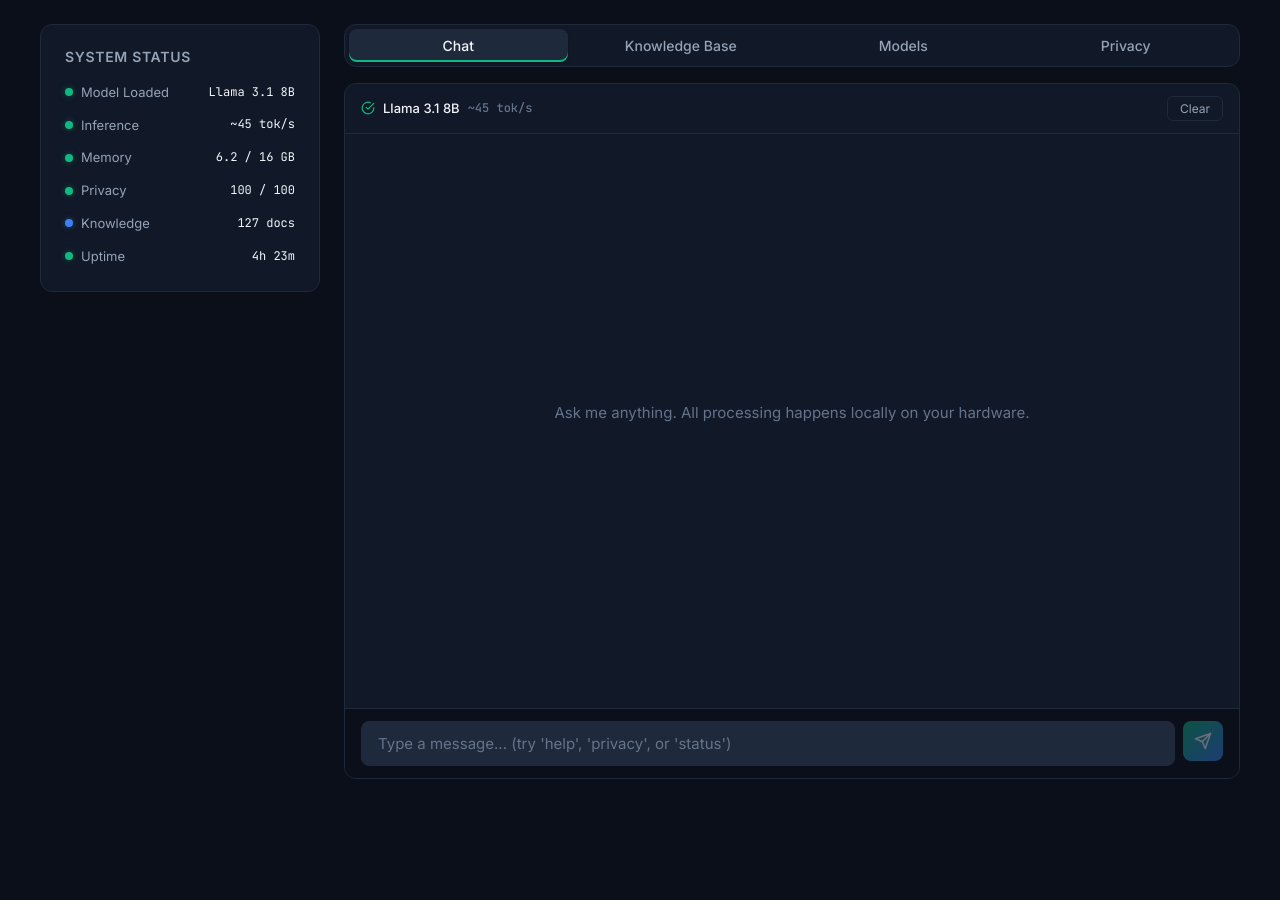
Test: DashboardPage › clears chat history
Type "test message" into the field named "Chat message input" at (768, 744), box [361, 721, 1175, 766]
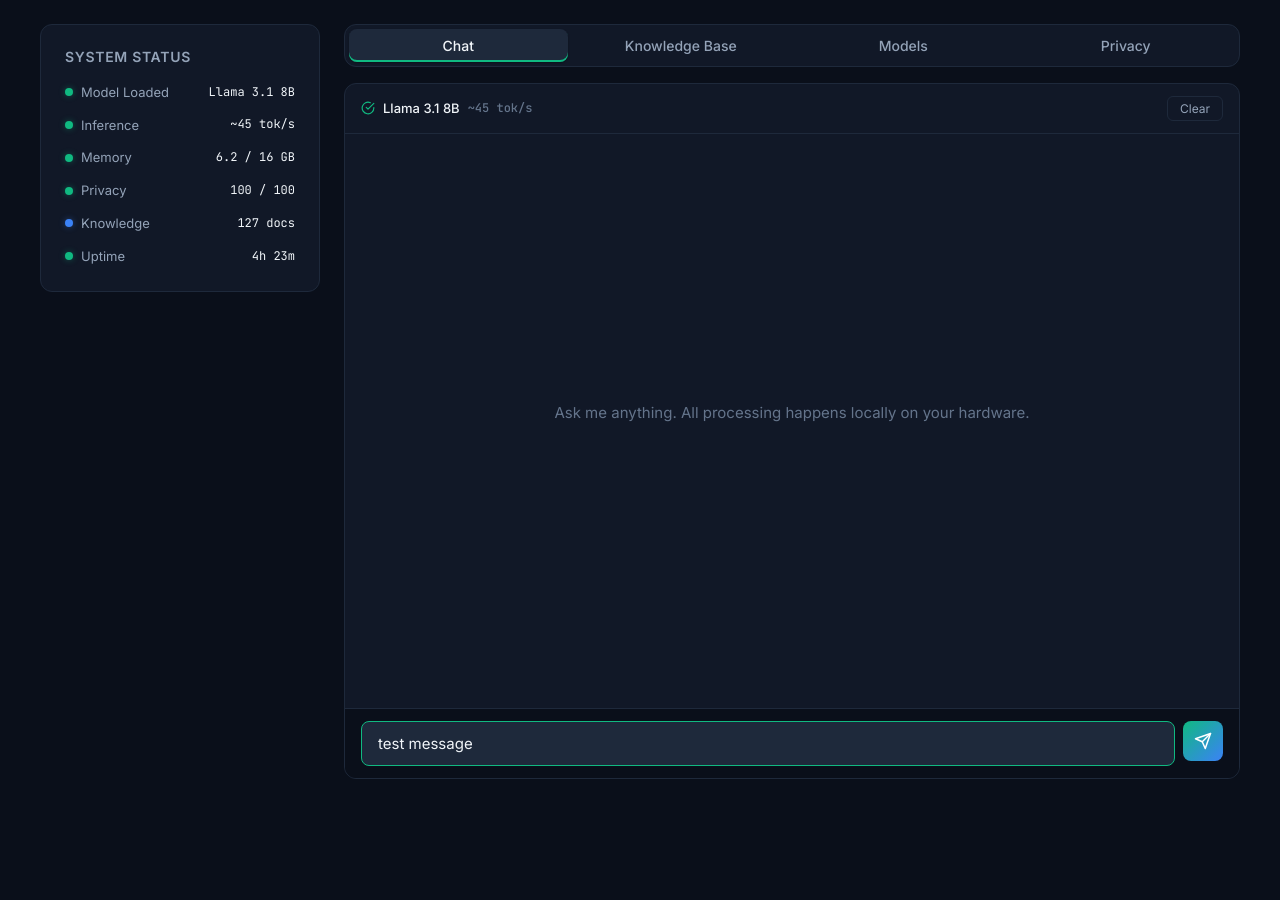
Click the button named "Send message" at (1203, 741), box [1183, 721, 1223, 761]
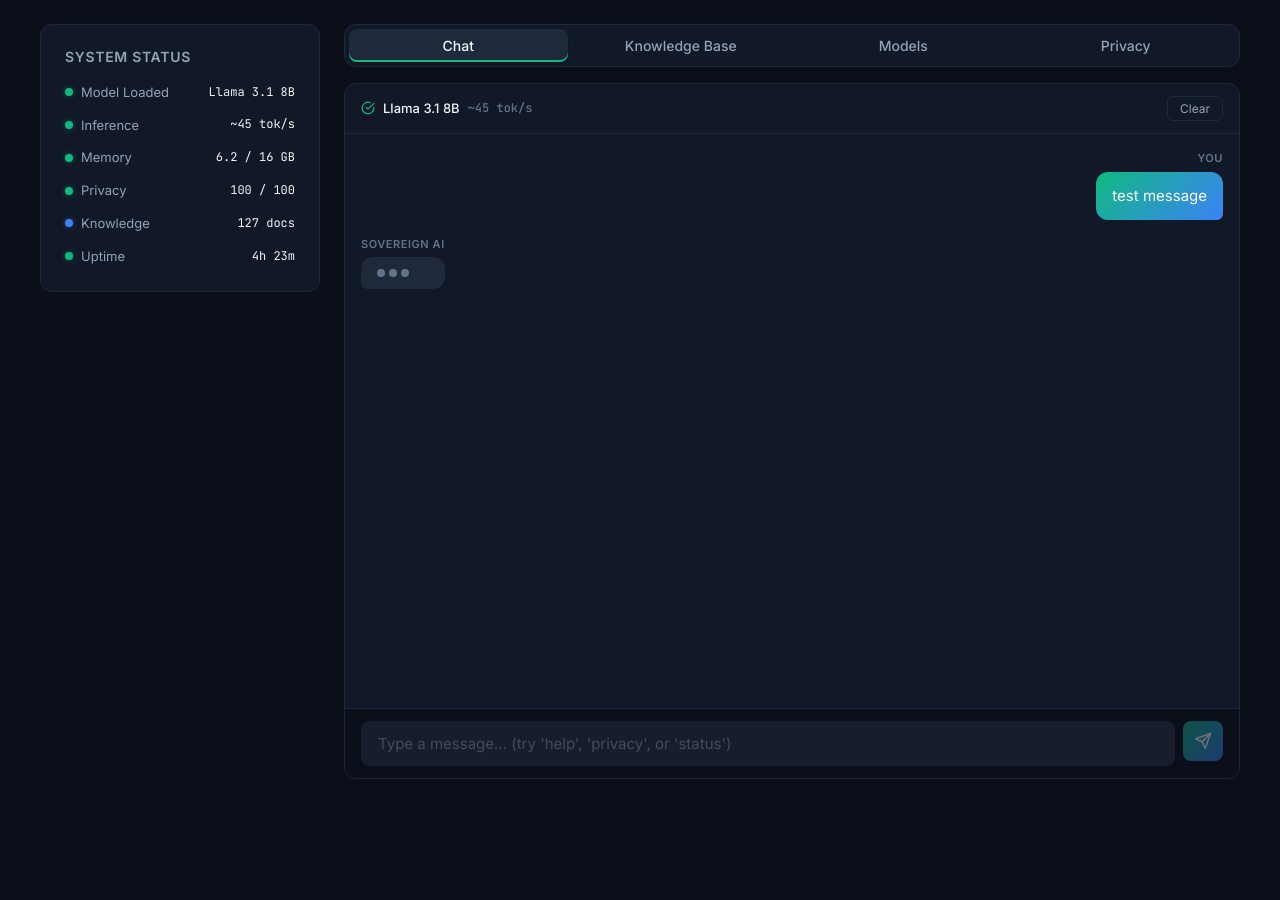
Expected: the text "test message" is shown, [1096, 172, 1223, 220]
Click the button with aria-label "Clear chat history" at (1195, 108), box [1167, 96, 1223, 121]
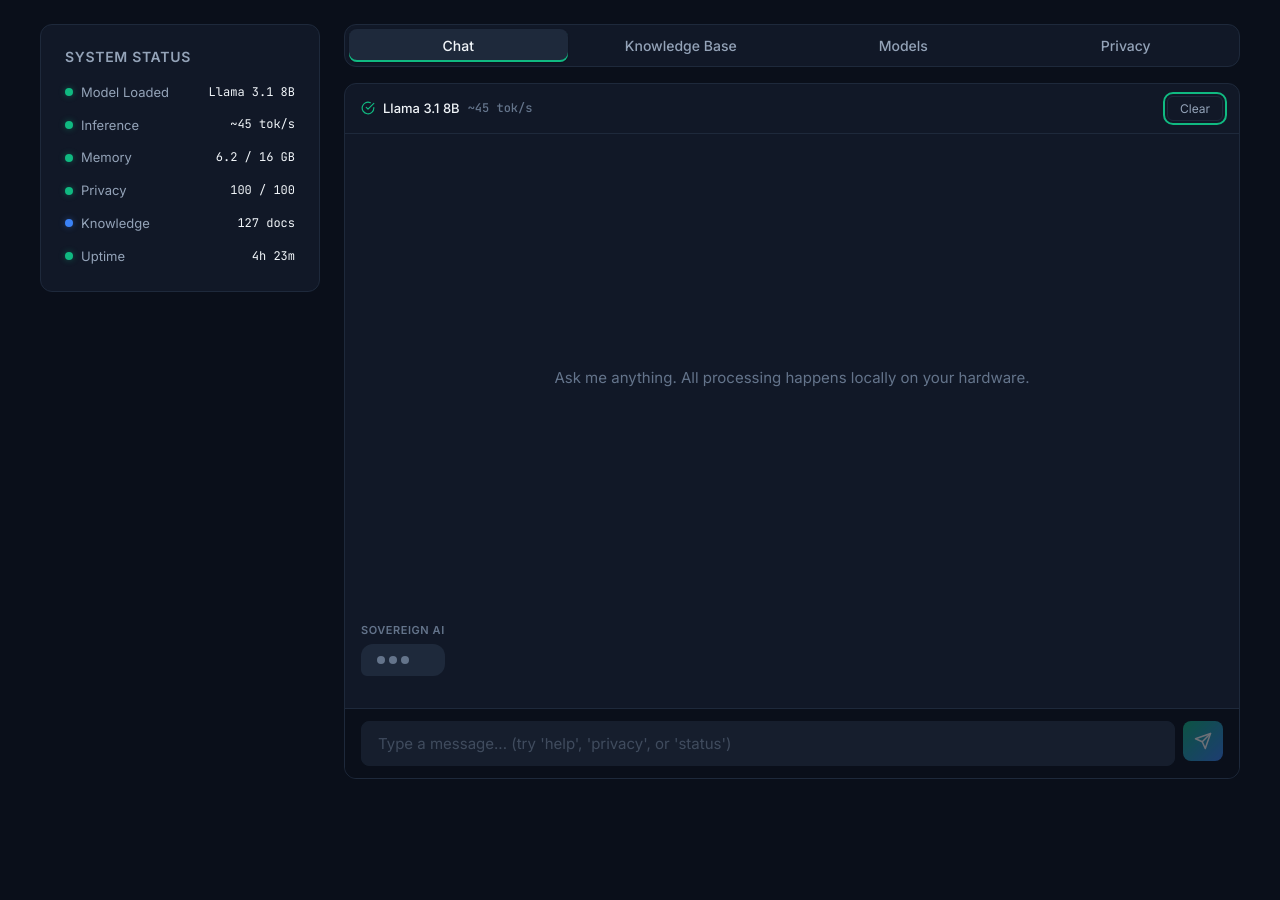
Expected: the text "test message" is gone
